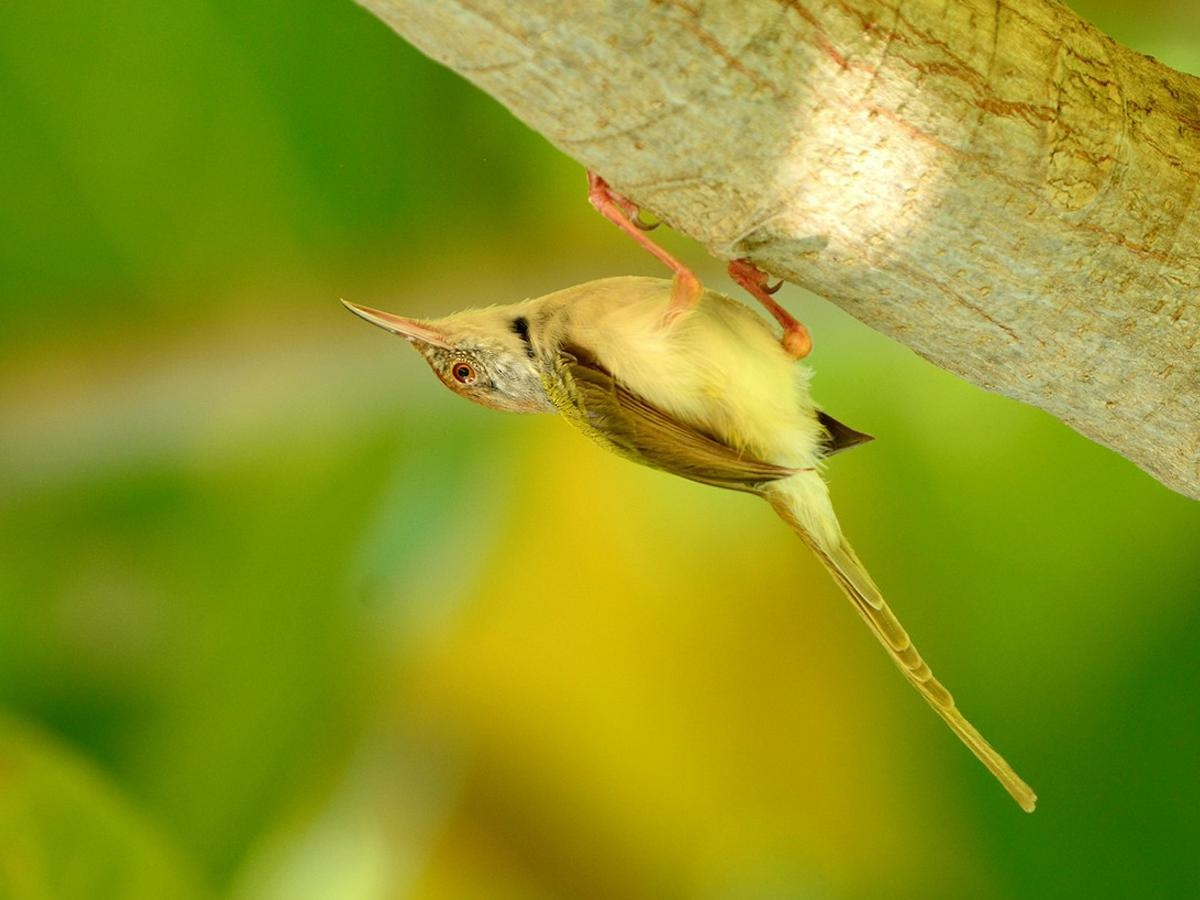tailorbird: (331, 167, 1108, 856)
